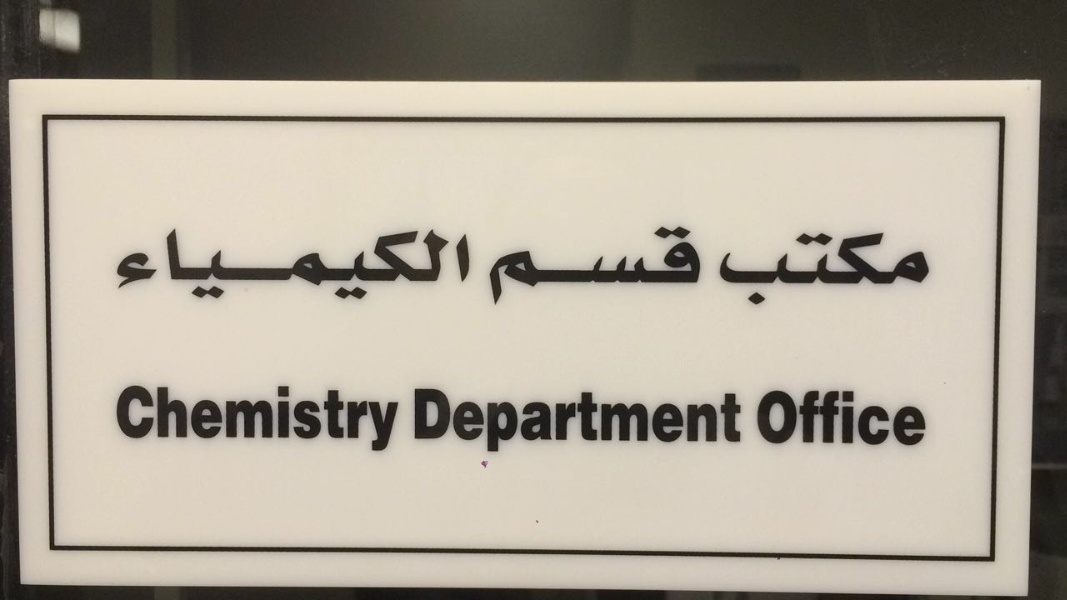text: (497, 225, 512, 306), (513, 225, 528, 306), (529, 225, 544, 306), (545, 225, 560, 306), (561, 225, 576, 306), (577, 225, 592, 306), (593, 225, 608, 306), (609, 225, 624, 306), (625, 225, 640, 306), (641, 225, 656, 306), (657, 225, 672, 306), (673, 225, 688, 306), (737, 231, 752, 308), (753, 231, 768, 308), (769, 231, 784, 308), (785, 231, 800, 308), (801, 231, 816, 308), (817, 231, 832, 308), (833, 231, 848, 308), (849, 231, 864, 308), (865, 231, 880, 308), (881, 231, 896, 308), (897, 231, 912, 308), (913, 231, 928, 308), (129, 226, 144, 300), (145, 226, 160, 300), (161, 226, 176, 300), (177, 226, 192, 300), (193, 226, 208, 300), (209, 226, 224, 300), (225, 226, 240, 300), (241, 226, 256, 300), (257, 226, 272, 300), (273, 226, 288, 300), (289, 226, 304, 300), (305, 226, 320, 300), (321, 226, 336, 300), (337, 226, 352, 300), (353, 226, 368, 300), (369, 226, 384, 300), (385, 226, 400, 300), (401, 226, 416, 300), (417, 226, 432, 300), (433, 226, 448, 300), (449, 226, 464, 300), (722, 231, 736, 308), (689, 225, 702, 306), (114, 226, 128, 300), (129, 383, 144, 451), (145, 383, 160, 451), (161, 383, 176, 451), (177, 383, 192, 451), (193, 383, 208, 451), (209, 383, 224, 451), (225, 383, 240, 451), (241, 383, 256, 451), (257, 383, 272, 451), (273, 383, 288, 451), (289, 383, 304, 451), (305, 383, 320, 451), (321, 383, 336, 451), (337, 383, 352, 451), (353, 383, 368, 451), (369, 383, 384, 451), (385, 383, 400, 451), (417, 386, 432, 453), (433, 386, 448, 453), (449, 386, 464, 453), (465, 386, 480, 453), (481, 386, 496, 453), (497, 386, 512, 453), (513, 386, 528, 453), (529, 386, 544, 453), (545, 386, 560, 453), (561, 386, 576, 453), (577, 386, 592, 453), (593, 386, 608, 453), (609, 386, 624, 453), (625, 386, 640, 453), (641, 386, 656, 453), (657, 386, 672, 453), (673, 386, 688, 453), (689, 386, 704, 453), (705, 386, 720, 453), (721, 386, 736, 453), (769, 386, 784, 447), (785, 386, 800, 447), (801, 386, 816, 447), (817, 386, 832, 447), (833, 386, 848, 447), (849, 386, 864, 447), (865, 386, 880, 447), (881, 386, 896, 447), (897, 386, 912, 447), (913, 386, 927, 447), (117, 383, 128, 451), (757, 386, 768, 447), (490, 225, 496, 306), (737, 386, 744, 453), (465, 226, 470, 300), (411, 386, 416, 453), (929, 231, 932, 308), (401, 383, 402, 451)
